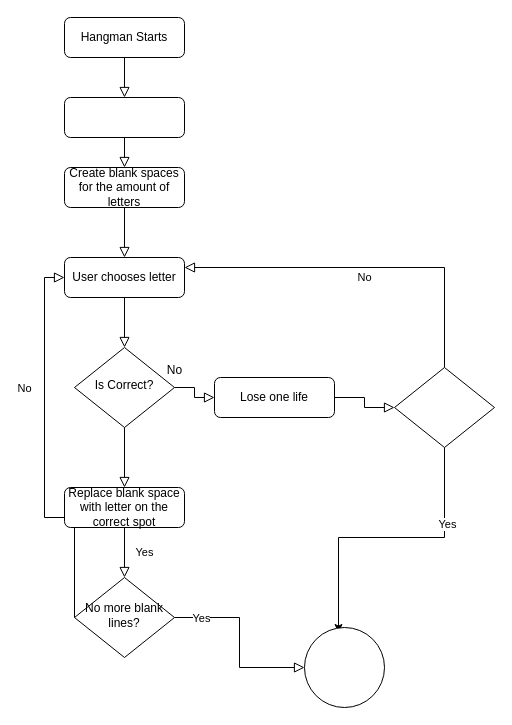
Some shapes in this 512 by 725 pixel diagram are drawn without their labels. Here are the shapes that lost their labels. From the top down, the box of each, then its label:
(64, 96, 184, 138): Generate random word
(394, 366, 494, 448): Got to error limit?
(304, 626, 384, 708): End - Win
